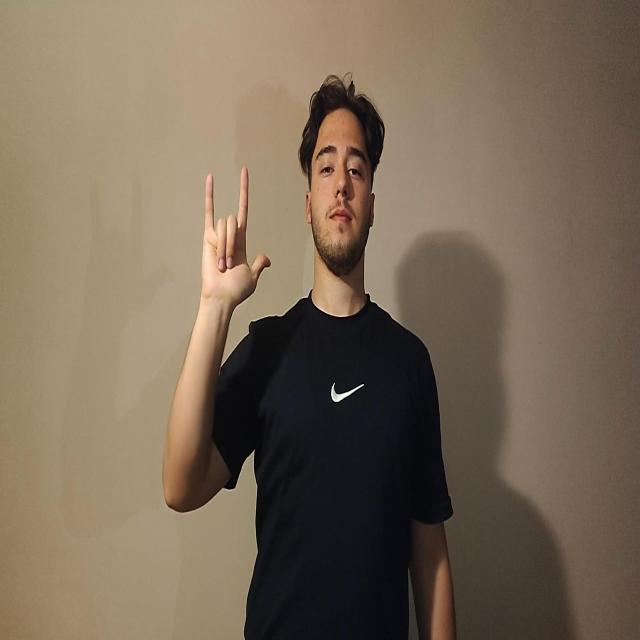iloveyou: (200, 165, 271, 316)
